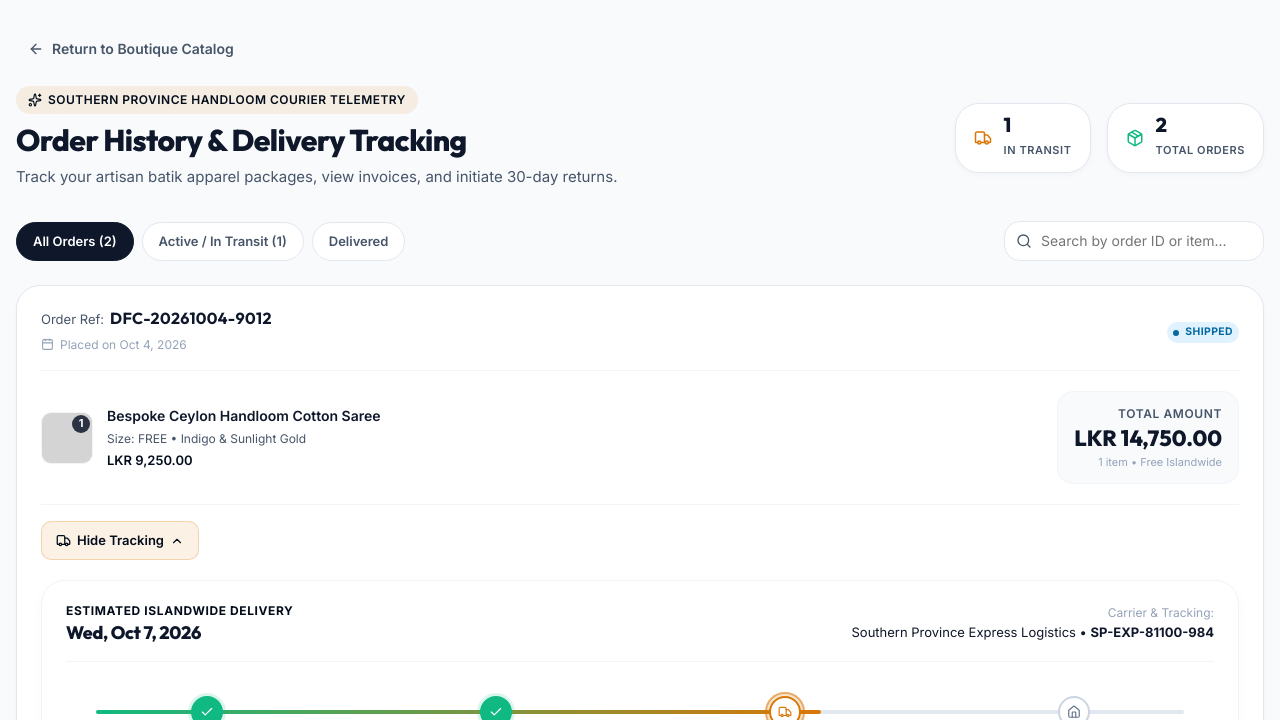
Scenario: STORM-FE-015: Customer Order History & 4-Stage Delivery Milestone Stepper › AC1 & AC2: OrderHistoryPage & OrderCard Summary › filters orders dynamically with search query
In the search field with test id "order-search-input": (1134, 241) x1=1004 y1=221 x2=1264 y2=262, type "Sarong"
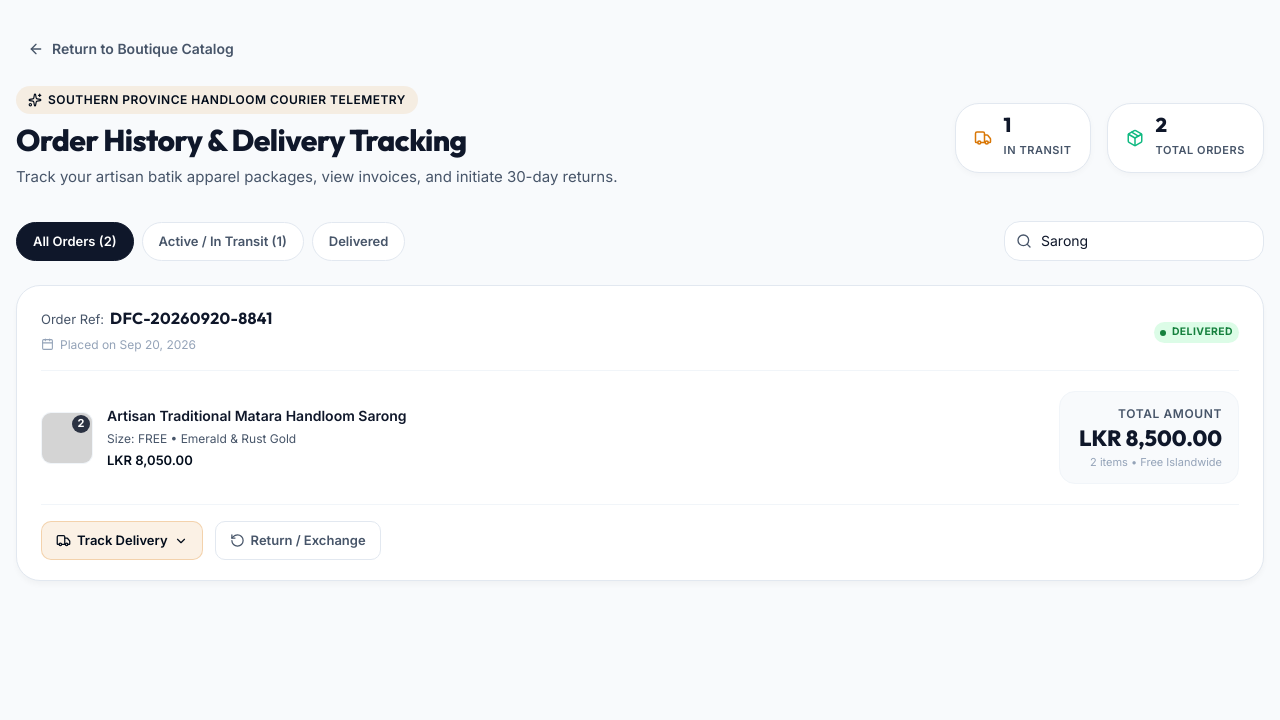
Check: the text "DFC-20260920-8841" is shown, box x1=110 y1=306 x2=273 y2=332
Check: the text "DFC-20261004-9012" is gone
